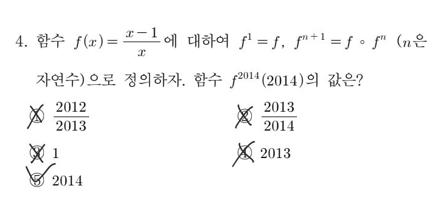1: (23, 163, 52, 189)
paper: (234, 142, 254, 162), (234, 106, 254, 126), (26, 106, 46, 126), (26, 142, 46, 162), (25, 170, 45, 190)
